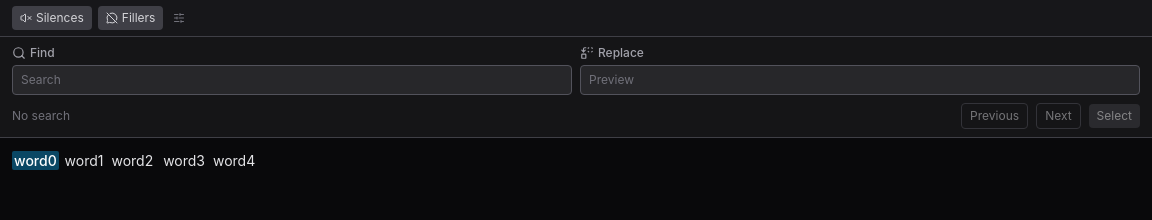
Test: TranscriptEditor › should clear selection on Escape key
Press the mouse on the button "word0" at [35, 160], box [12, 151, 59, 170]
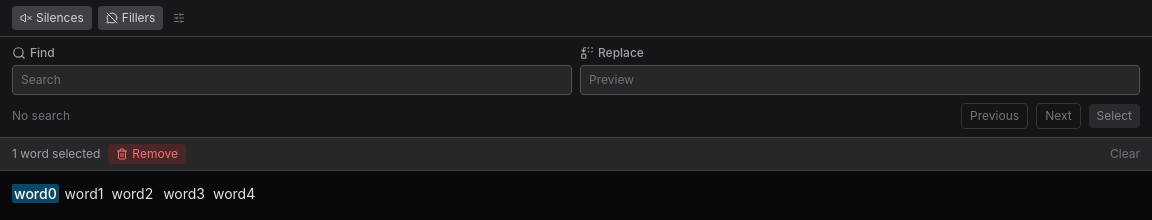
Hover over the button "word1" at [84, 194], box [63, 184, 106, 203]
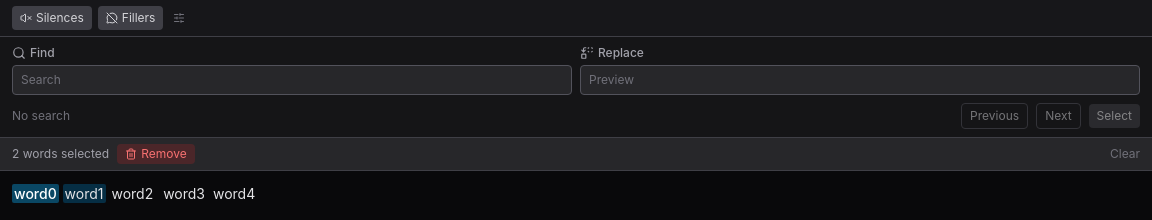
Result: the text "2 words selected" is shown at [12, 146, 109, 162]
Press Escape in the field named "Transcript editor"
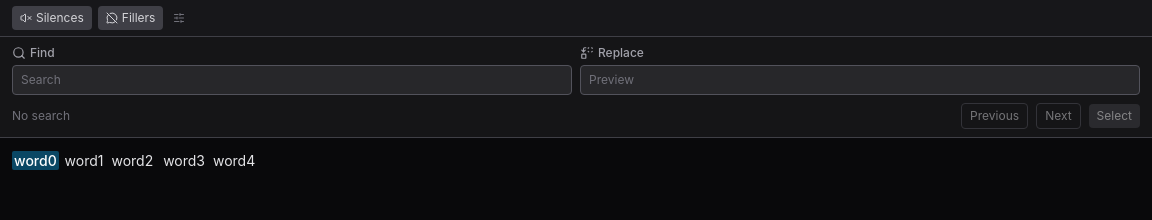
Result: the text "words selected" is gone
